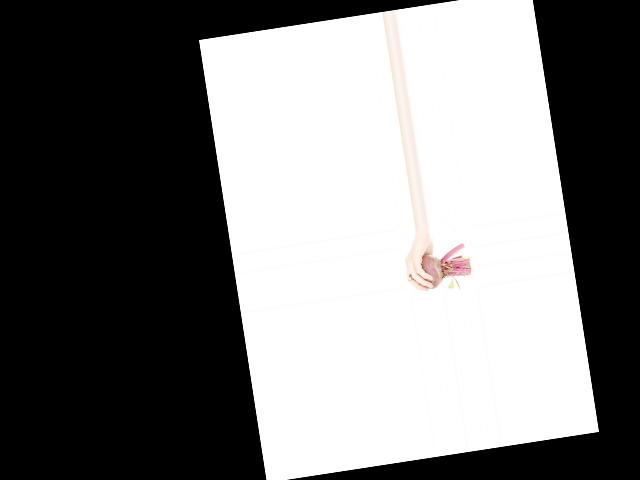beet: (404, 242, 474, 297)
